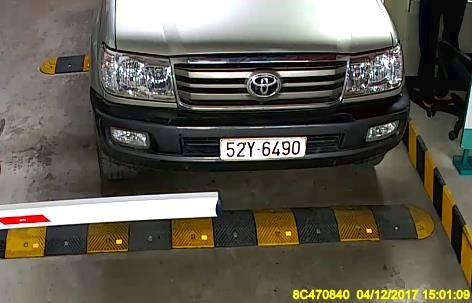plate: (218, 135, 312, 162)
